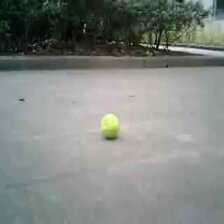tennis: (100, 113, 119, 137)
